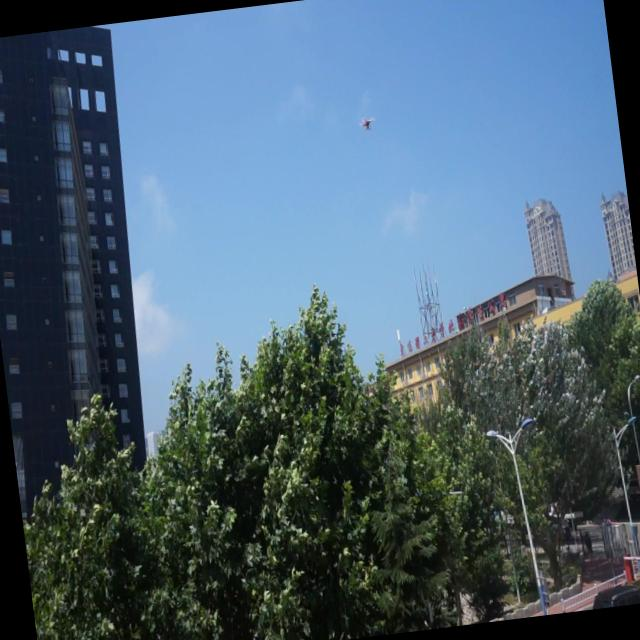drone: (358, 112, 377, 136)
